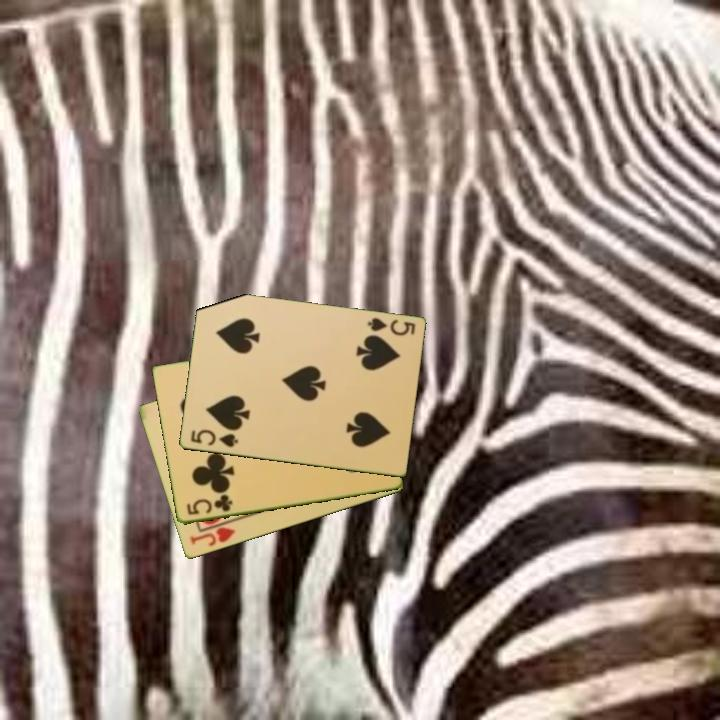5c: (183, 491, 235, 518)
5s: (364, 314, 418, 339), (187, 426, 241, 450)
Jh: (186, 524, 238, 550)
